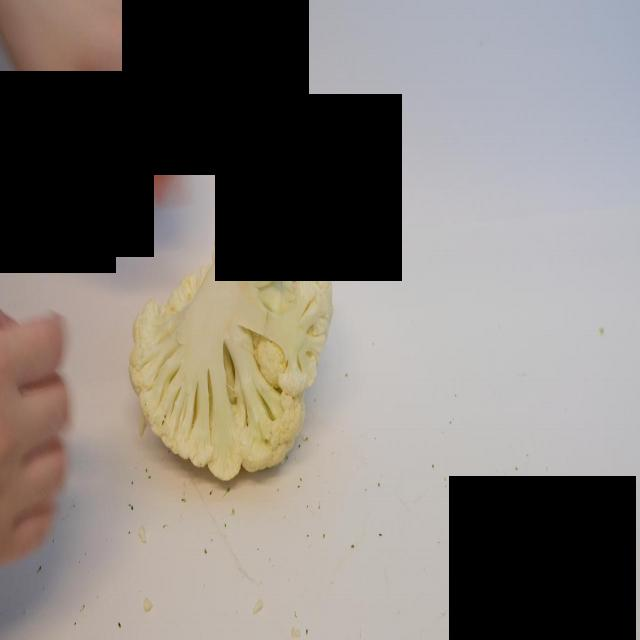cauliflower: (130, 212, 340, 488)
